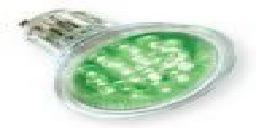LED: (19, 8, 236, 121)
